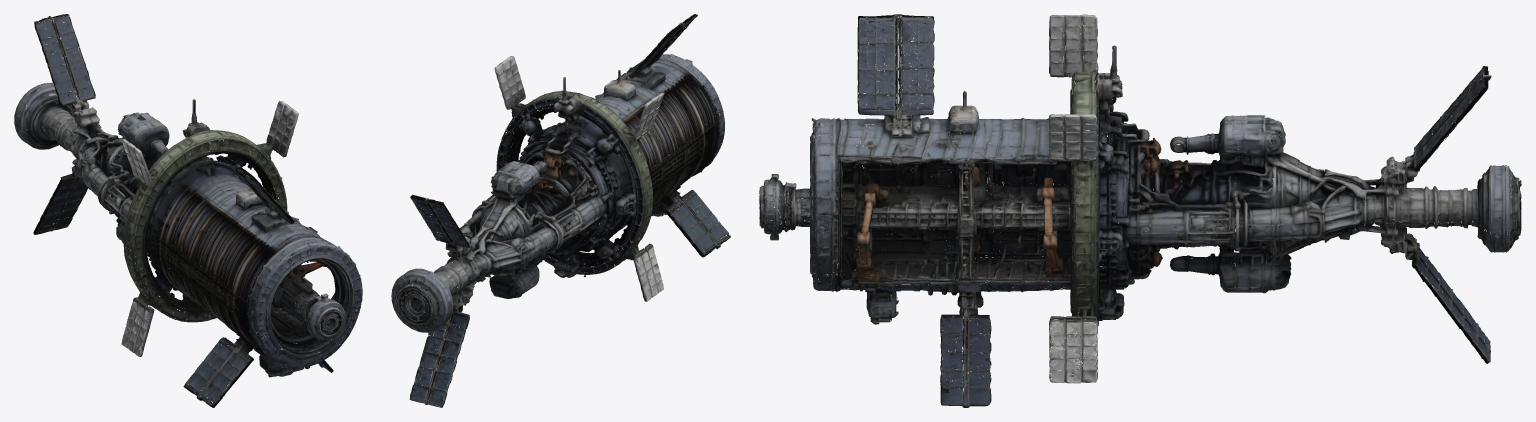
Rendered from station_opt.glb.
3 renders of one model, left to right at view 1: azimuth 30°, elevation 25°; view 2: azimuth 150°, elevation 25°; view 3: azimuth 270°, elevation 25°, orthographic. The views are drawn at different scales.
Visible parts, largest first — view 1: world; view 2: world; view 3: world.
Part boxes in pixels (<box>): world: <box>14,14,362,407</box>; world: <box>391,14,730,407</box>; world: <box>759,14,1521,407</box>.
Bounding box in the file's own units: 0.3169 × 0.4663 × 1.
Materials: 1 (1 with a texture image).
